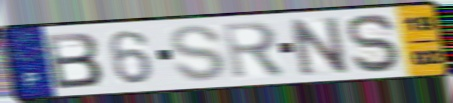6: (106, 28, 156, 86)
B: (42, 30, 106, 91)
N: (286, 14, 353, 79)
R: (220, 19, 289, 82)
S: (345, 12, 406, 74), (167, 23, 229, 83)
